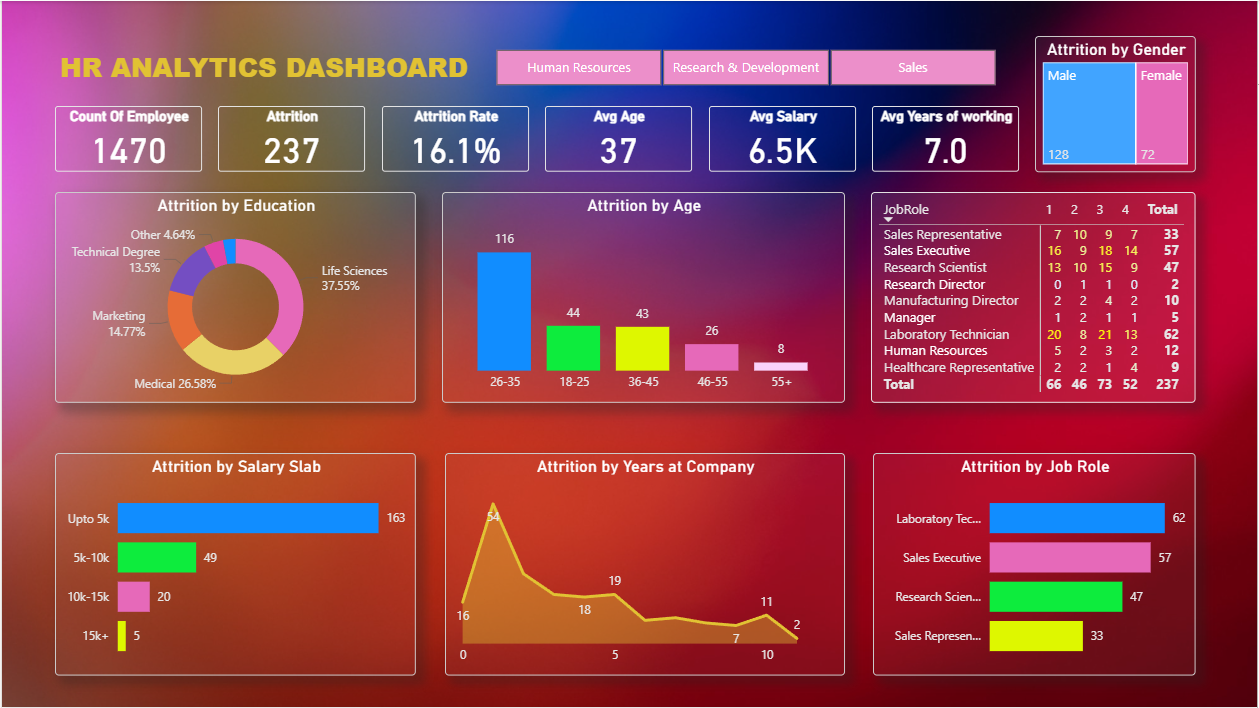

The page's visual inventory and layout, read from the dashboard file:
{"tool":"powerbi","page":{"name":"HR Analytics Dashboard","canvas":[1280,720],"ordinal":0},"visuals":[{"type":"card","title":"Count Of Employee","fields":{"Values":["CountNonNull(HR_Analytics.EmpID)"]},"box":[54.1,107.1,149.9,67.3],"z":0},{"type":"card","title":"Attrition Rate","fields":{"Values":["HR_Analytics.AttritionRate"]},"box":[387.4,107.1,149.9,67.3],"z":1000},{"type":"card","title":"Attrition","fields":{"Values":["Sum(HR_Analytics.Attrition Count)"]},"box":[220.7,107.1,149.9,67.3],"z":2000},{"type":"card","title":"Avg Age","fields":{"Values":["Avg(HR_Analytics.Age)"]},"box":[554,107.1,149.9,67.3],"z":3000},{"type":"card","title":"Avg Years of working","fields":{"Values":["Avg(HR_Analytics.YearsAtCompany)"]},"box":[887.3,107.1,149.9,67.3],"z":4000},{"type":"card","title":"Avg Salary","fields":{"Values":["Avg(HR_Analytics.MonthlyIncome)"]},"box":[720.7,107.1,149.9,67.3],"z":5000},{"type":"donutChart","title":"Attrition by Education","fields":{"Category":["HR_Analytics.EducationField"],"Y":["Sum(HR_Analytics.Attrition Count)"]},"box":[54.1,194.8,368.2,215.2],"z":6000},{"type":"columnChart","title":"Attrition by Age","fields":{"Category":["HR_Analytics.AgeGroup"],"Y":["Sum(HR_Analytics.Attrition Count)"]},"box":[448.8,194.8,411,215.2],"z":7000},{"type":"pivotTable","fields":{"Rows":["HR_Analytics.JobRole"],"Columns":["HR_Analytics.JobSatisfaction"],"Values":["Sum(HR_Analytics.Attrition Count)"]},"box":[886.3,194.8,331.5,215.2],"z":8000},{"type":"clusteredBarChart","title":"Attrition by Salary Slab","fields":{"Category":["HR_Analytics.SalarySlab"],"Y":["Sum(HR_Analytics.Attrition Count)"]},"box":[54.1,461,368.2,227.4],"z":9000},{"type":"clusteredBarChart","title":"Attrition by Job Role","fields":{"Category":["HR_Analytics.JobRole"],"Y":["Sum(HR_Analytics.Attrition Count)"]},"box":[888.4,461,329.4,227.4],"z":10000},{"type":"areaChart","title":"Attrition by Years at Company","fields":{"Category":["HR_Analytics.YearsAtCompany"],"Y":["Sum(HR_Analytics.Attrition Count)"]},"box":[451.3,461,408,227.4],"z":11000},{"type":"treemap","title":"Attrition by Gender","fields":{"Group":["HR_Analytics.Gender"],"Values":["Sum(HR_Analytics.Attrition Count)"]},"box":[1053.6,35.7,164.2,138.7],"z":12000},{"type":"slicer","fields":{"Values":["HR_Analytics.Department"]},"box":[478.3,42.8,558.9,50],"z":13000},{"type":"textbox","box":[54.1,43.9,434.5,47.9],"z":14000}]}

Visuals, with their boxes in screenshot pixels (x1, y1, x2, y2), scaled from the page's 1280x720 canvas onto the 1259x708 screenshot:
"Count Of Employee" card: bbox(53, 105, 201, 171)
"Attrition Rate" card: bbox(381, 105, 528, 171)
"Attrition" card: bbox(217, 105, 365, 171)
"Avg Age" card: bbox(545, 105, 692, 171)
"Avg Years of working" card: bbox(873, 105, 1020, 171)
"Avg Salary" card: bbox(709, 105, 856, 171)
"Attrition by Education" donutChart: bbox(53, 192, 415, 403)
"Attrition by Age" columnChart: bbox(441, 192, 846, 403)
pivotTable - HR_Analytics.JobRole x HR_Analytics.JobSatisfaction: bbox(872, 192, 1198, 403)
"Attrition by Salary Slab" clusteredBarChart: bbox(53, 453, 415, 677)
"Attrition by Job Role" clusteredBarChart: bbox(874, 453, 1198, 677)
"Attrition by Years at Company" areaChart: bbox(444, 453, 845, 677)
"Attrition by Gender" treemap: bbox(1036, 35, 1198, 171)
slicer - HR_Analytics.Department: bbox(470, 42, 1020, 91)
textbox: bbox(53, 43, 481, 90)
